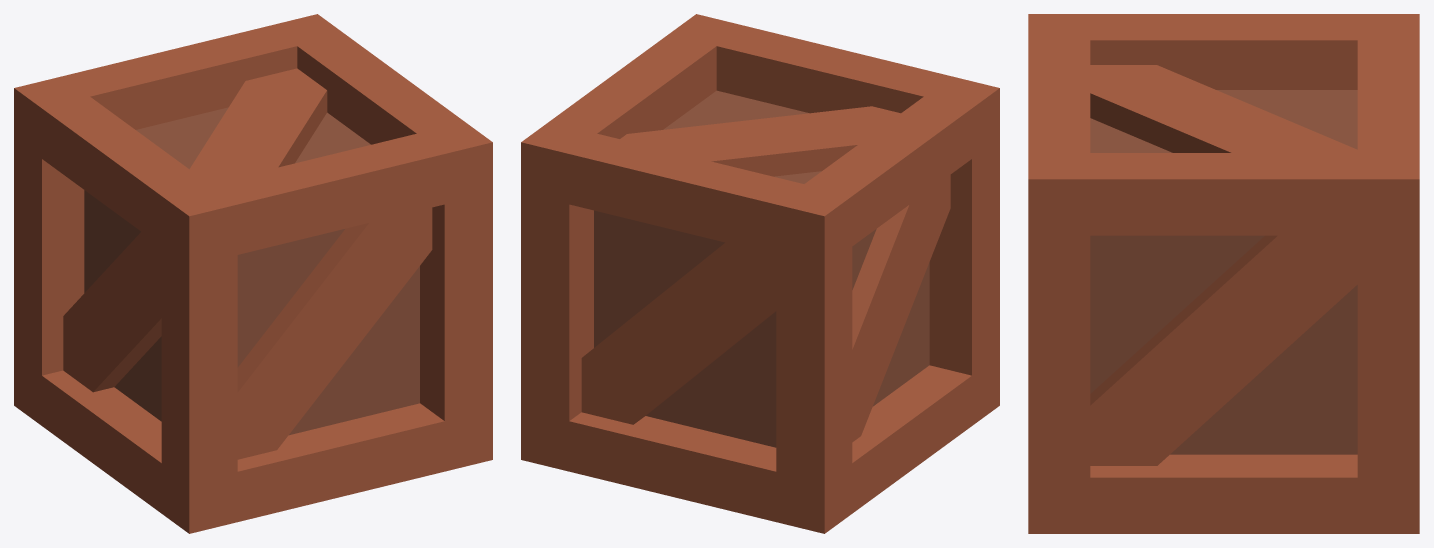
Rendered from crate.fbx.
3 views of the same model, side by side, from view 1: azimuth 30°, elevation 25°; view 2: azimuth 150°, elevation 25°; view 3: azimuth 270°, elevation 25° (orthographic). The views are drawn at different scales.
Parts seen in each view (by area): view 1: crate; view 2: crate; view 3: crate.
Part boxes in pixels (x1=…): crate: x1=14, y1=14, x2=492, y2=533; crate: x1=521, y1=14, x2=999, y2=533; crate: x1=1028, y1=14, x2=1419, y2=533.
Size of the model in its own units: 50 by 50 by 50.
